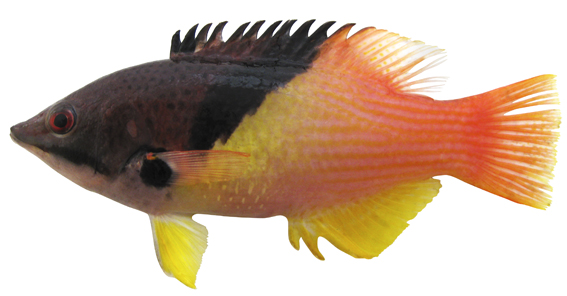fish: (10, 19, 561, 290)
